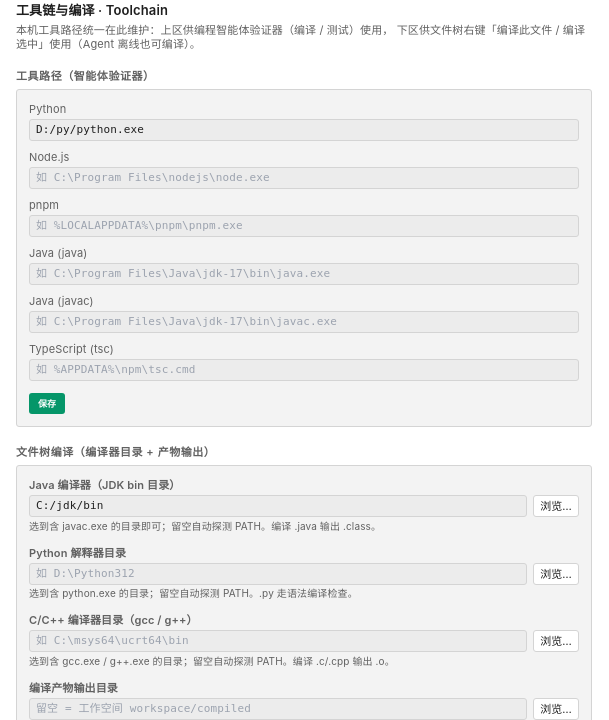
Scenario: ToolchainSettingsPanel（工具链与编译，合并页签） › 区块二保存：compileConfigSave 收到 javac 目录 + 输出目录
Expected: the field showing "C:/jdk/bin" is shown, left=29, top=495, right=527, bottom=517
Note: 填输出目录后保存（第二个「保存」按钮属于区块二）
Type "D:/out" into the field with placeholder "留空 = 工作空间 workspace/compiled" at (278,708), box left=29, top=698, right=527, bottom=719
(page scrolled)
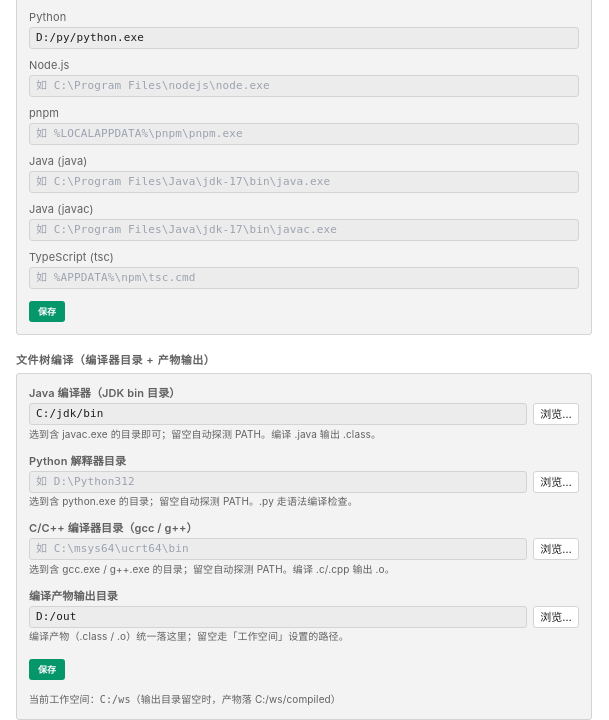
Click the button "保存" below "编译产物（.class / .o）统一落这里；留空走「工作空间」设置的路径。" at (47,670), box left=29, top=659, right=65, bottom=680
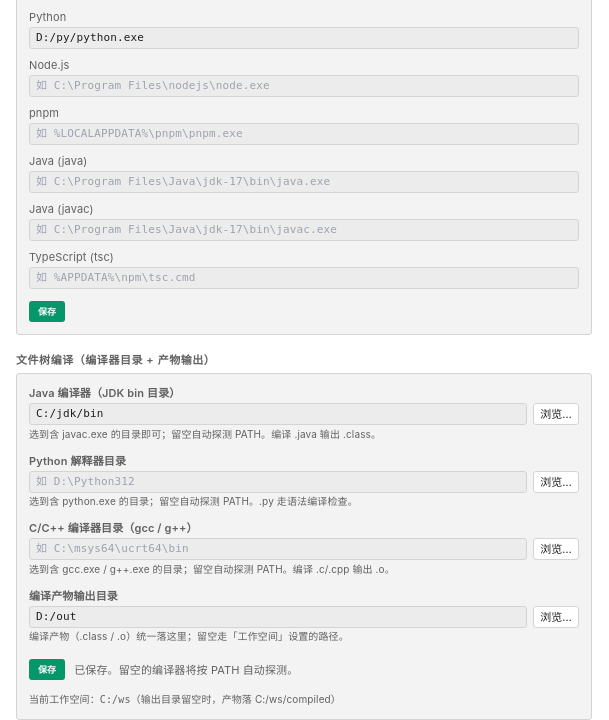
Now the text "已保存。留空的编译器将按 PATH 自动探测。" is shown, box left=74, top=662, right=298, bottom=676
